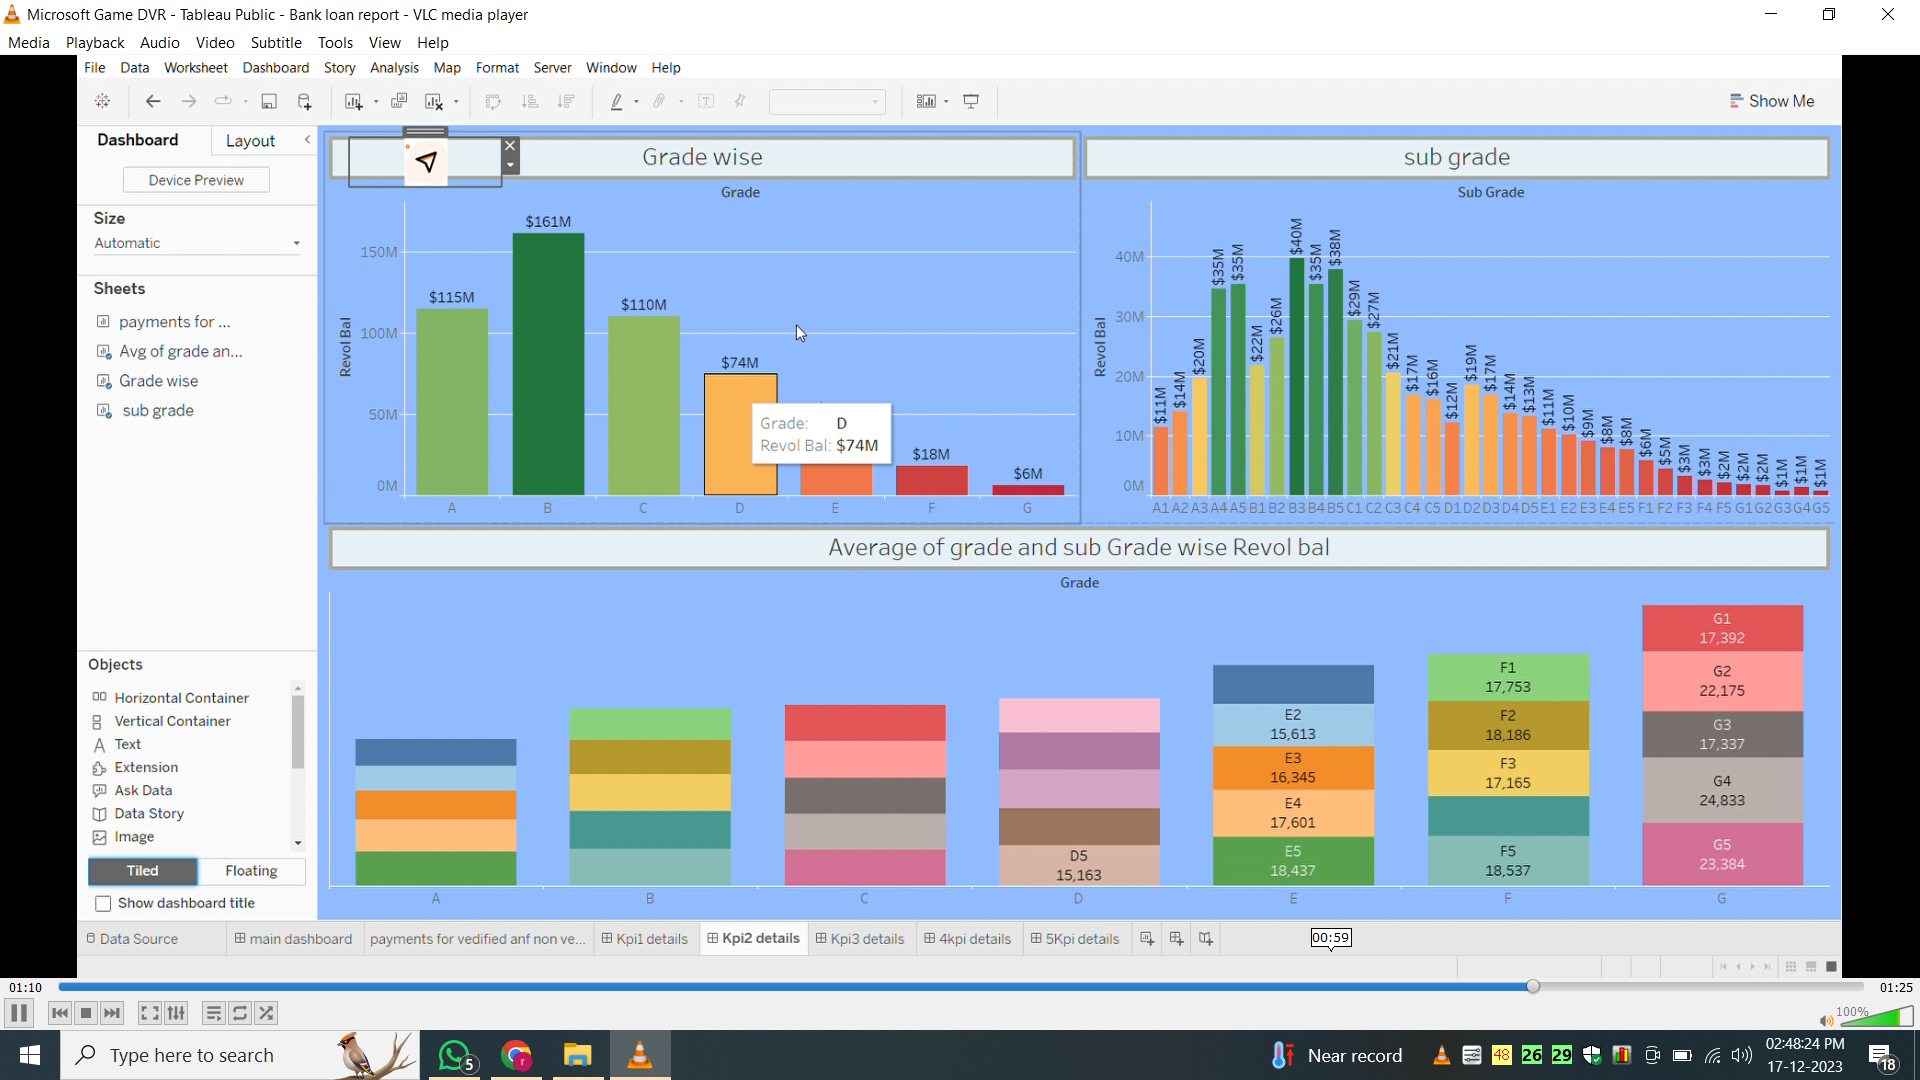

The dashboard page shown, as its layout file describes it:
{"tool":"tableau","page":{"name":"Kpi2 details","canvas":[1000,1000],"units":"permille","ordinal":3},"visuals":[{"type":"worksheet","title":"Grade wise","mark":"Automatic","rows":["revol_bal"],"cols":["grade"],"box":[4.8,9.3,495.2,490.7]},{"type":"worksheet","title":" sub grade ","mark":"Automatic","rows":["revol_bal"],"cols":["sub_grade"],"box":[500,9.3,495.2,490.7]},{"type":"dashboard-object","box":[21.1,16.3,99,60.4]},{"type":"worksheet","title":"Avg of grade and sub garde","mark":"Automatic","rows":["revol_bal"],"cols":["grade"],"box":[4.8,500,990.3,490.7]}]}

Visuals, with their boxes on the dashboard's canvas, which has no fixed pixel size, in thousandths of its width and height (x1, y1, x2, y2). These are canvas units, not pixel positions in the 1920x1080 screenshot, which may show the page scaled, cropped or inside an application window:
"Grade wise" worksheet: region(5, 9, 500, 500)
" sub grade " worksheet: region(500, 9, 995, 500)
dashboard-object: region(21, 16, 120, 77)
"Avg of grade and sub garde" worksheet: region(5, 500, 995, 991)
